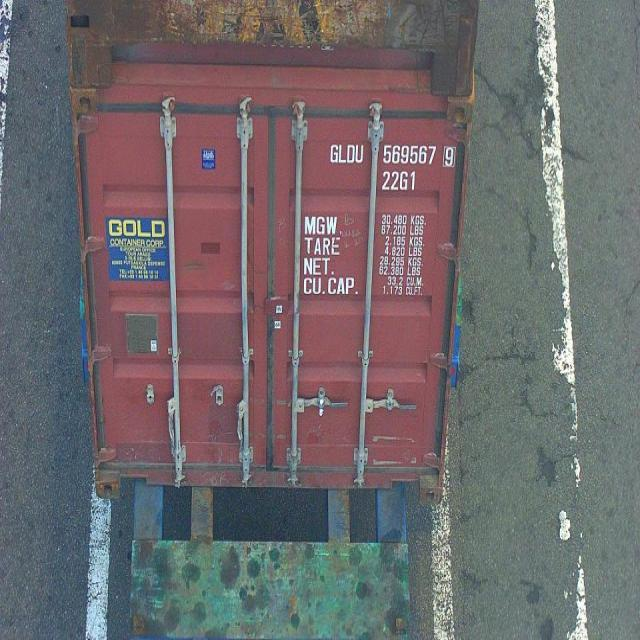ISO: (384, 172, 420, 192)
container_number: (331, 140, 458, 166)
